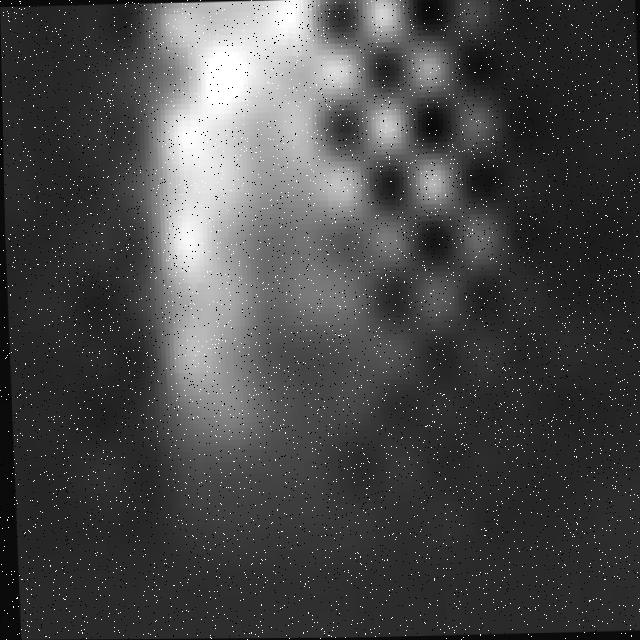person: (114, 1, 508, 564)
